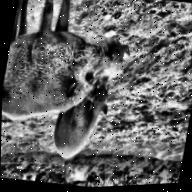boar: (1, 0, 137, 142), (55, 64, 130, 172)
